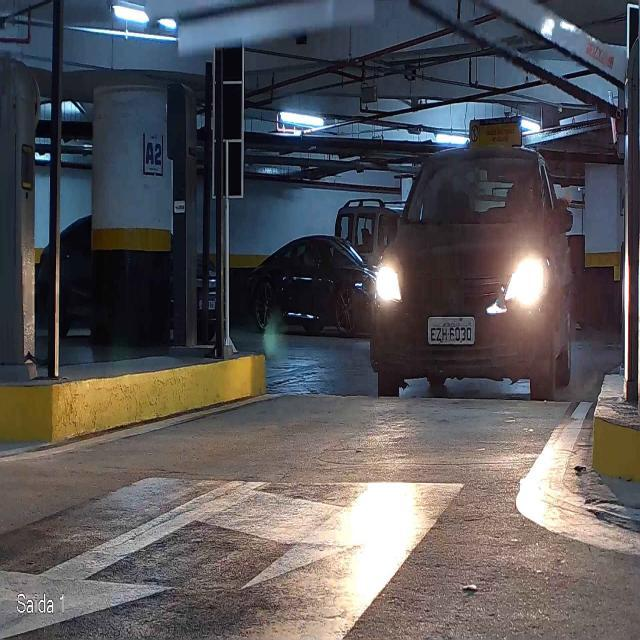old_plate: (426, 314, 477, 346)
